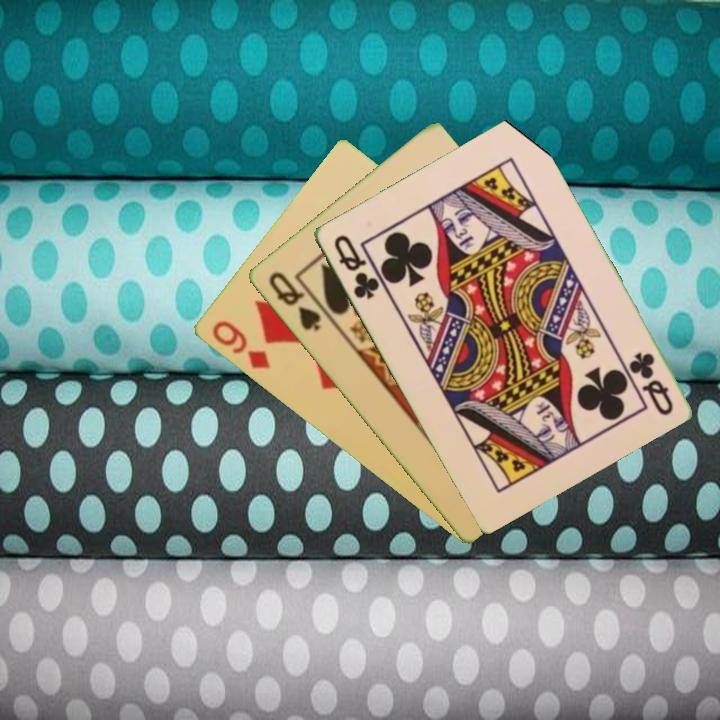9d: (208, 317, 273, 372)
Qc: (329, 230, 382, 302), (625, 348, 676, 419)
Qs: (264, 268, 324, 335)
